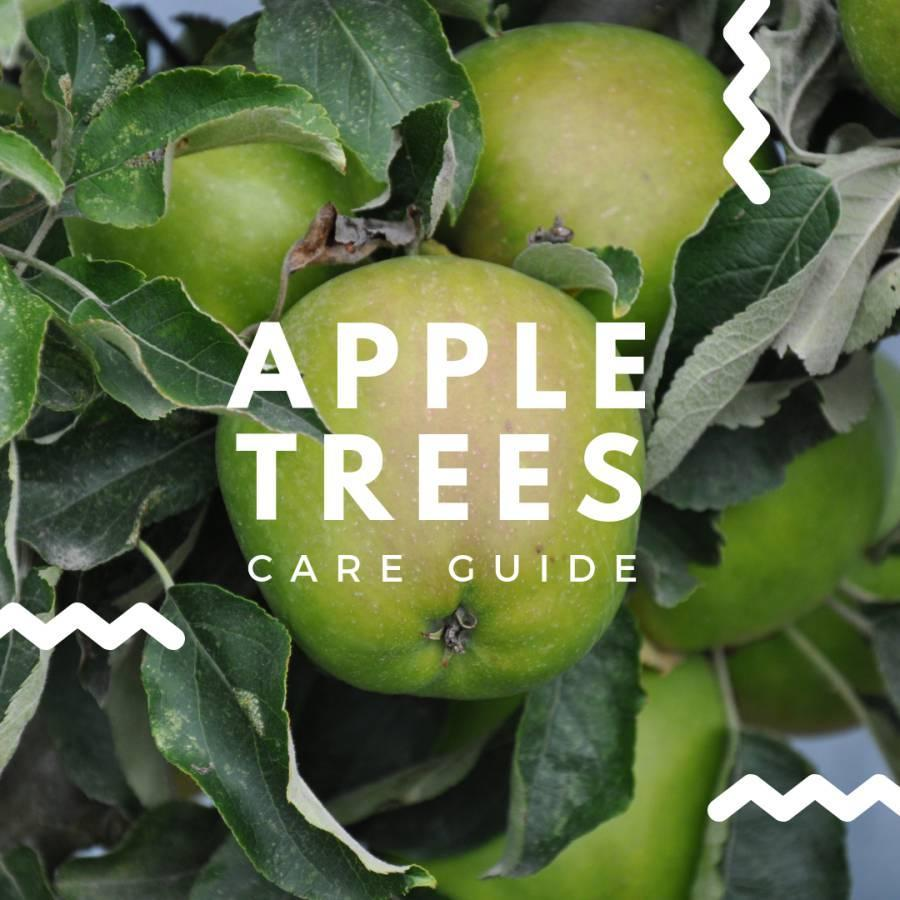apple: (209, 248, 644, 702), (467, 25, 759, 323), (100, 141, 356, 336)
